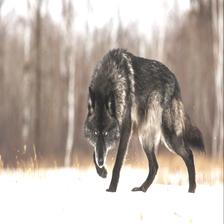WOLF: (84, 49, 198, 195)
